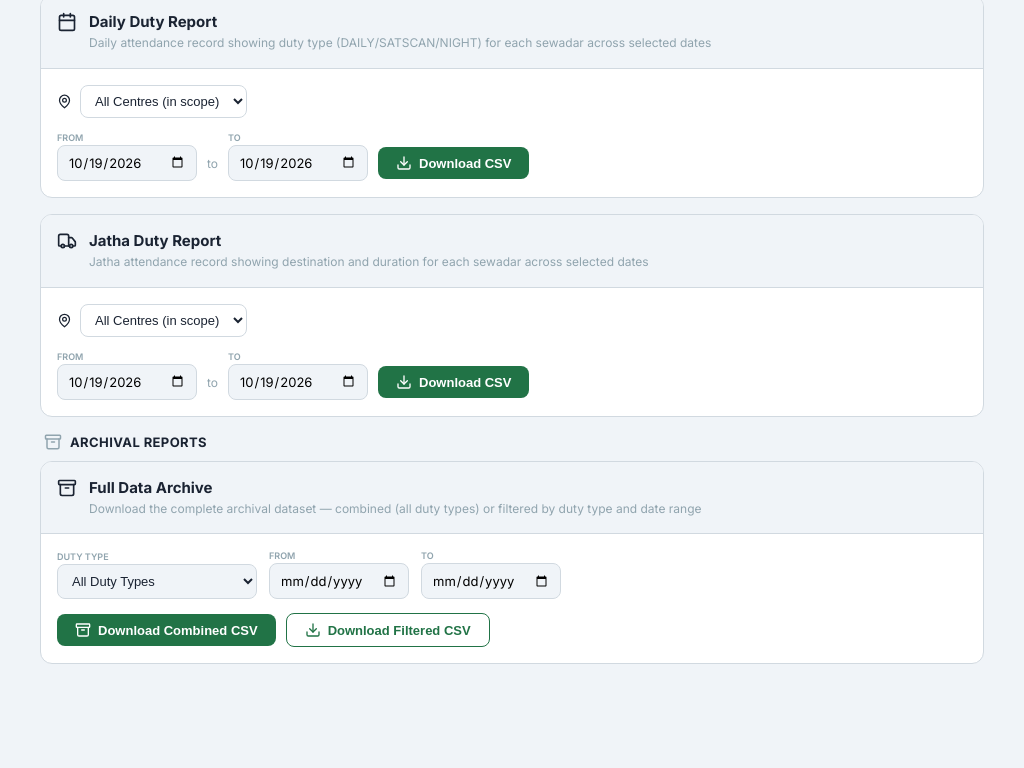
Test: archival downloads on the Downloads tab › a ready artifact downloads the signed URL and never touches the RPC
(page scrolled)
Click the button "Download Combined CSV" at (166,630), box [57, 614, 276, 646]
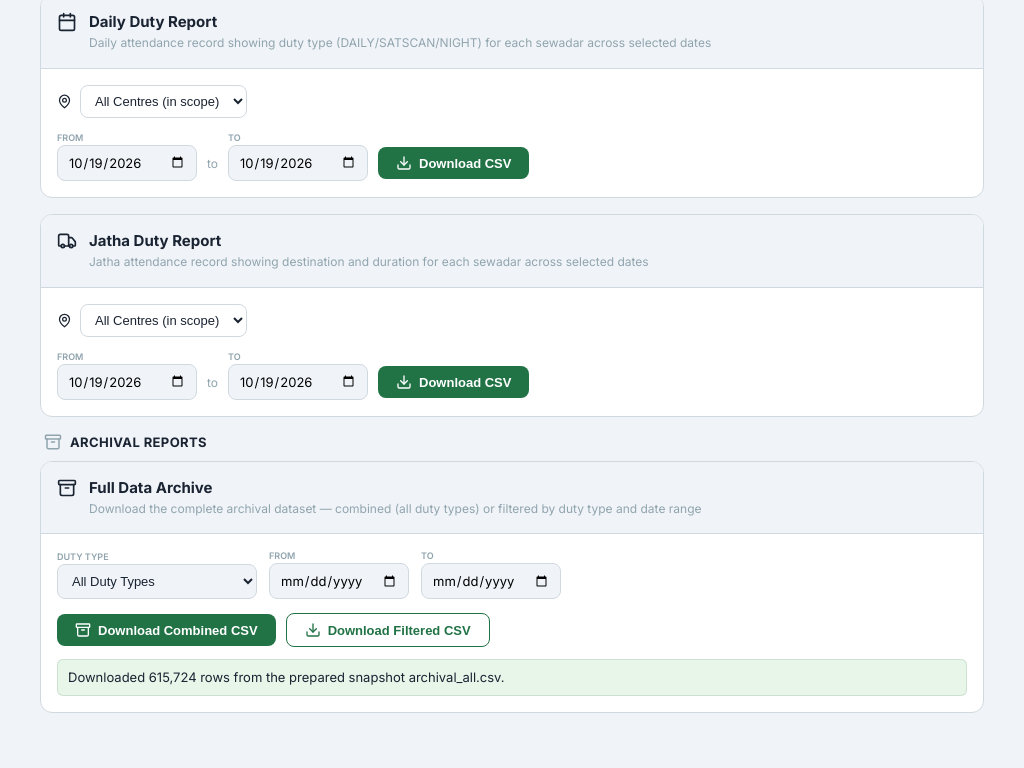
Expected: the text "Downloaded 615,724 rows from the prepared snapshot archival_all.csv." is shown, [57, 659, 967, 696]
